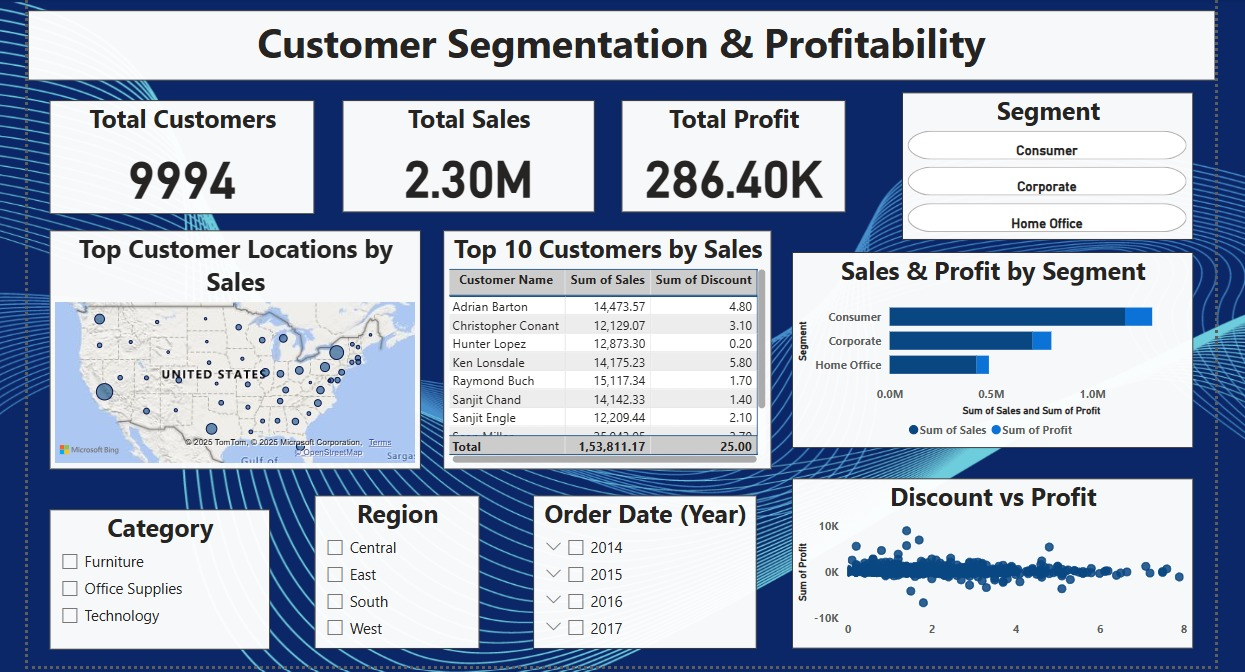

The dashboard page shown, as its layout file describes it:
{"tool":"powerbi","page":{"name":"Customer Segmentation & Profitability","canvas":[1280,720],"ordinal":3},"visuals":[{"type":"textbox","box":[0,13.4,1280,75.2],"z":0},{"type":"card","title":"Total Customers","fields":{"Values":["CountNonNull(Sample - Superstore.Order ID)"]},"box":[24.1,110.6,285.4,122.6],"z":1},{"type":"card","title":"Total Sales","fields":{"Values":["Sum(Sample - Superstore.Sales)"]},"box":[339.7,110.6,271.4,120.6],"z":2},{"type":"card","title":"Total Profit","fields":{"Values":["Sum(Sample - Superstore.Profit)"]},"box":[639.2,110.6,241.2,120.6],"z":3},{"type":"barChart","title":"Sales & Profit by Segment","fields":{"Category":["Sample - Superstore.Segment"],"Y":["Sum(Sample - Superstore.Sales)","Sum(Sample - Superstore.Profit)"]},"box":[824.2,273.4,432.2,211.1],"z":4},{"type":"scatterChart","title":" Discount vs Profit ","fields":{"X":["Sum(Sample - Superstore.Discount)"],"Y":["Sum(Sample - Superstore.Profit)"],"Category":["Sample - Superstore.Customer Name"]},"box":[824.2,518.6,432.2,182.9],"z":5},{"type":"tableEx","title":"Top 10 Customers by Sales","fields":{"Values":["Sample - Superstore.Customer Name","Sum(Sample - Superstore.Sales)","Sum(Sample - Superstore.Discount)"]},"box":[448.3,251.3,353.8,257.3],"z":6},{"type":"map","title":"Top Customer Locations by Sales","fields":{"Category":["Sample - Superstore.State"],"Size":["Sum(Sample - Superstore.Sales)"]},"box":[24.1,251.3,400,257.3],"z":7},{"type":"advancedSlicerVisual","fields":{"Values":["Sample - Superstore.Segment"]},"box":[942.8,102.5,313.6,158.8],"z":8},{"type":"slicer","title":"Region","fields":{"Values":["Sample - Superstore.Region"]},"box":[309.1,536.4,177.1,165.4],"z":9},{"type":"slicer","title":"Order Date (Year)","fields":{"Values":["Sample - Superstore.Order Date.Variation.Date Hierarchy.Year","Sample - Superstore.Order Date.Variation.Date Hierarchy.Quarter","Sample - Superstore.Order Date.Variation.Date Hierarchy.Month","Sample - Superstore.Order Date.Variation.Date Hierarchy.Day"]},"box":[544.8,536.4,240.6,165.4],"z":10},{"type":"slicer","title":"Category","fields":{"Values":["Sample - Superstore.Category"]},"box":[24.1,550.8,237.2,150.8],"z":11}]}

Visuals, with their boxes in screenshot pixels (x1, y1, x2, y2):
textbox: bbox(29, 9, 1206, 78)
"Total Customers" card: bbox(51, 98, 314, 211)
"Total Sales" card: bbox(341, 98, 591, 209)
"Total Profit" card: bbox(617, 98, 838, 209)
"Sales & Profit by Segment" barChart: bbox(787, 248, 1184, 442)
" Discount vs Profit " scatterChart: bbox(787, 473, 1184, 642)
"Top 10 Customers by Sales" tableEx: bbox(441, 228, 767, 464)
"Top Customer Locations by Sales" map: bbox(51, 228, 419, 464)
advancedSlicerVisual - Sample - Superstore.Segment: bbox(896, 91, 1184, 237)
"Region" slicer: bbox(313, 490, 476, 642)
"Order Date (Year)" slicer: bbox(530, 490, 751, 642)
"Category" slicer: bbox(51, 503, 269, 642)
